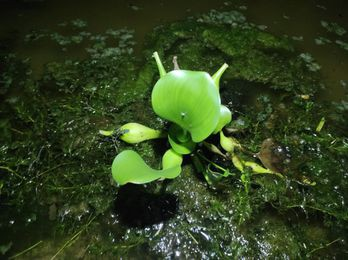water_hyacinth: (100, 51, 268, 193)
